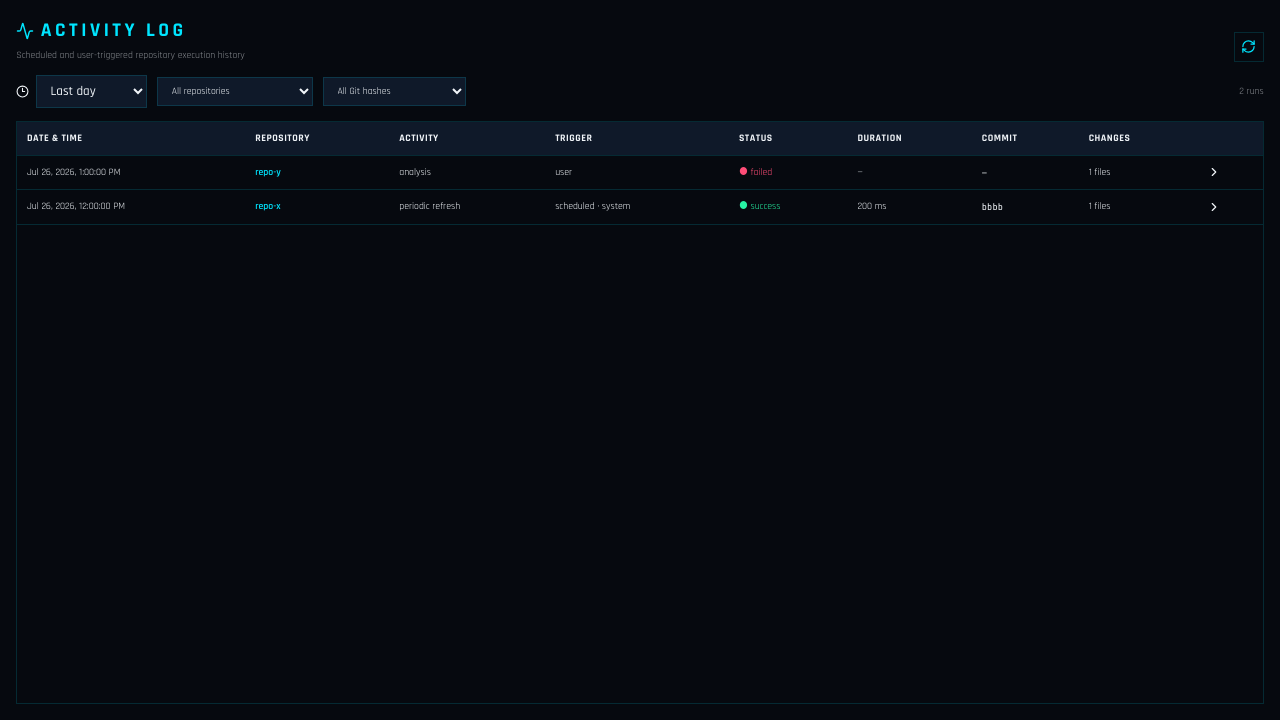
Test case: ActivityLogsView › shows all activities, applies filters, and opens a dismissible detail drawer
Select "Last 6 hours" in the dropdown named "Time range" at coordinates (92, 91), box [36, 75, 147, 108]
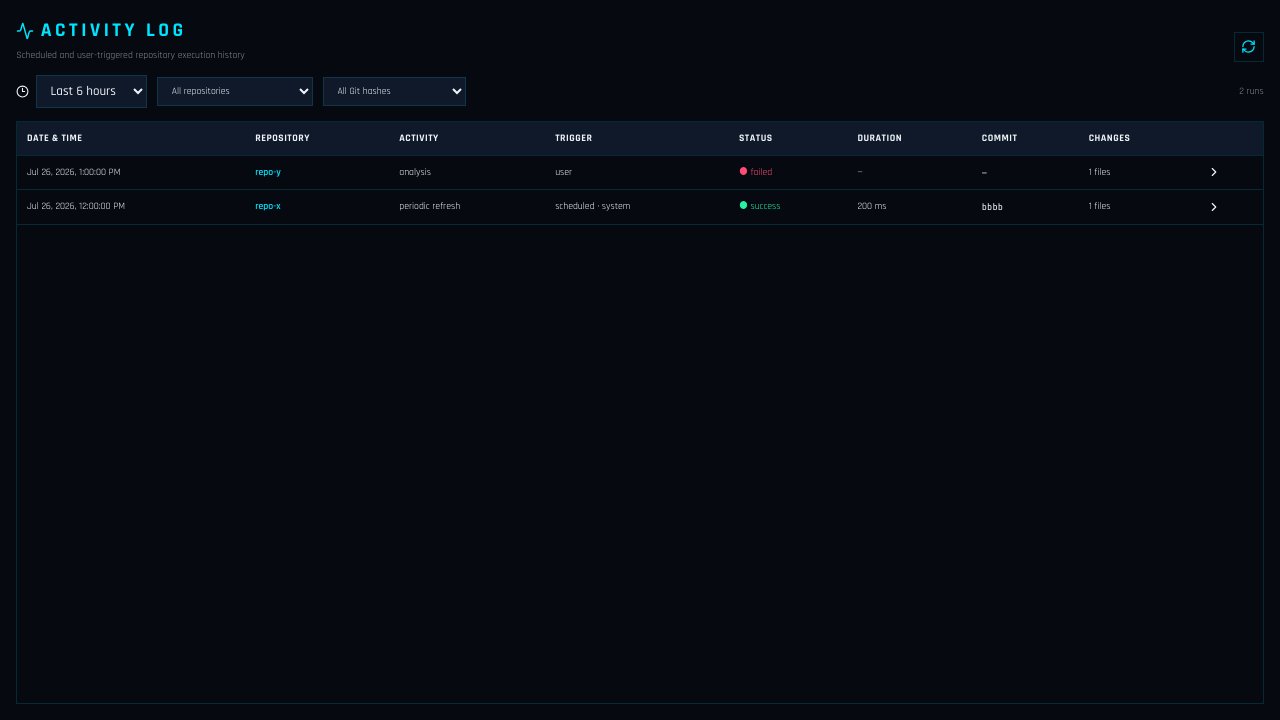
Select "repo-x" in the dropdown named "Repository" at coordinates (235, 91), box [157, 77, 313, 106]
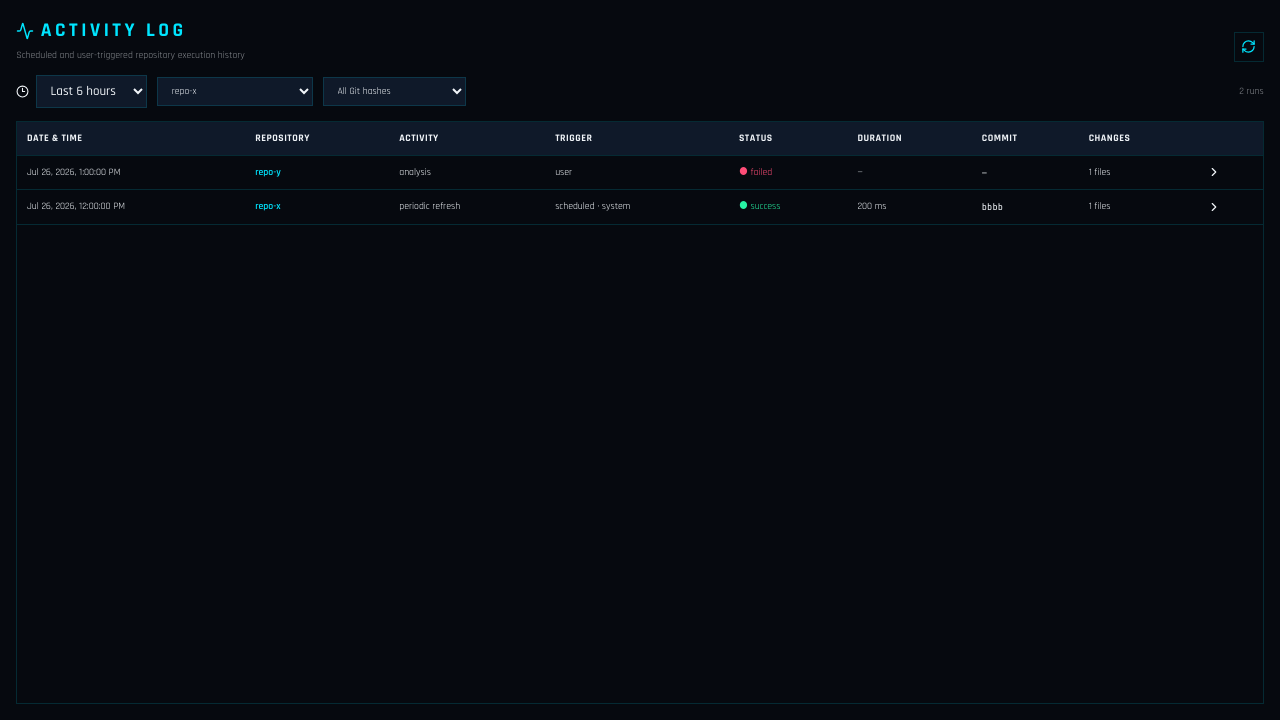
Select "Git hash changed" in the dropdown named "Git hash change" at coordinates (394, 91), box [323, 77, 466, 106]
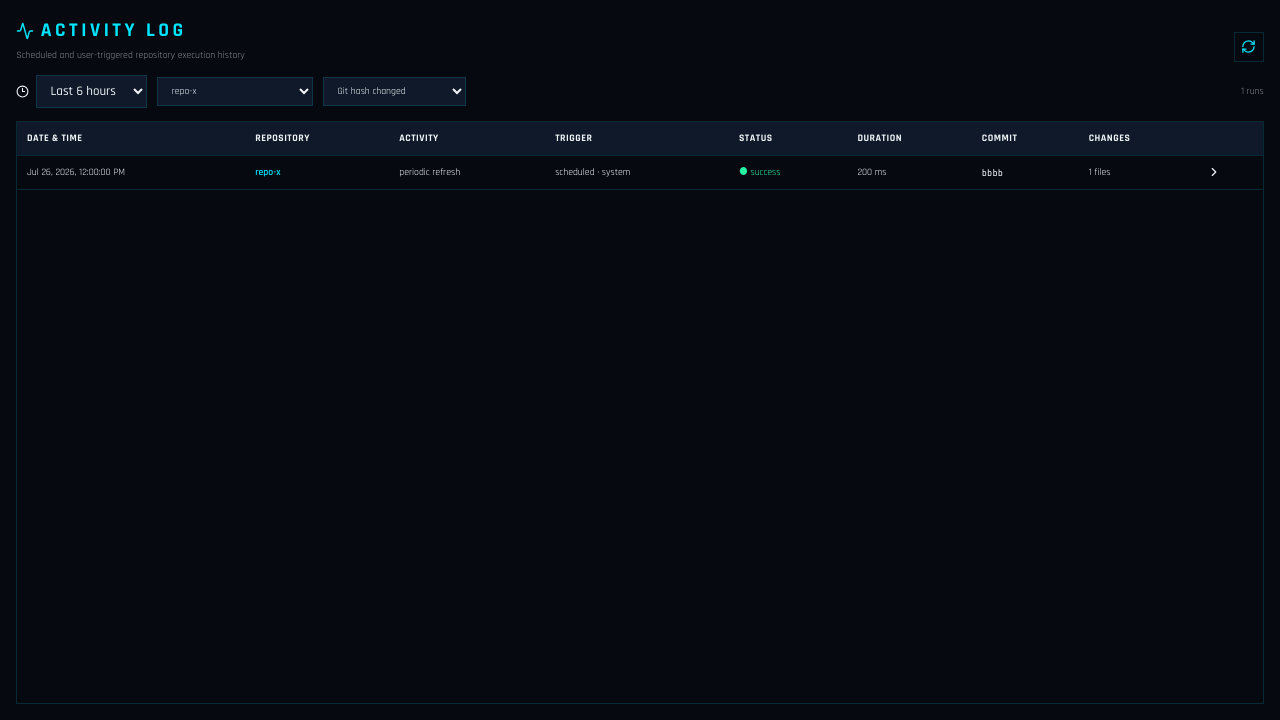
Expected: the text "200 ms" is shown, [848, 155, 972, 190]
Click the text "repo-x" at coordinates (268, 172), box [245, 155, 389, 190]
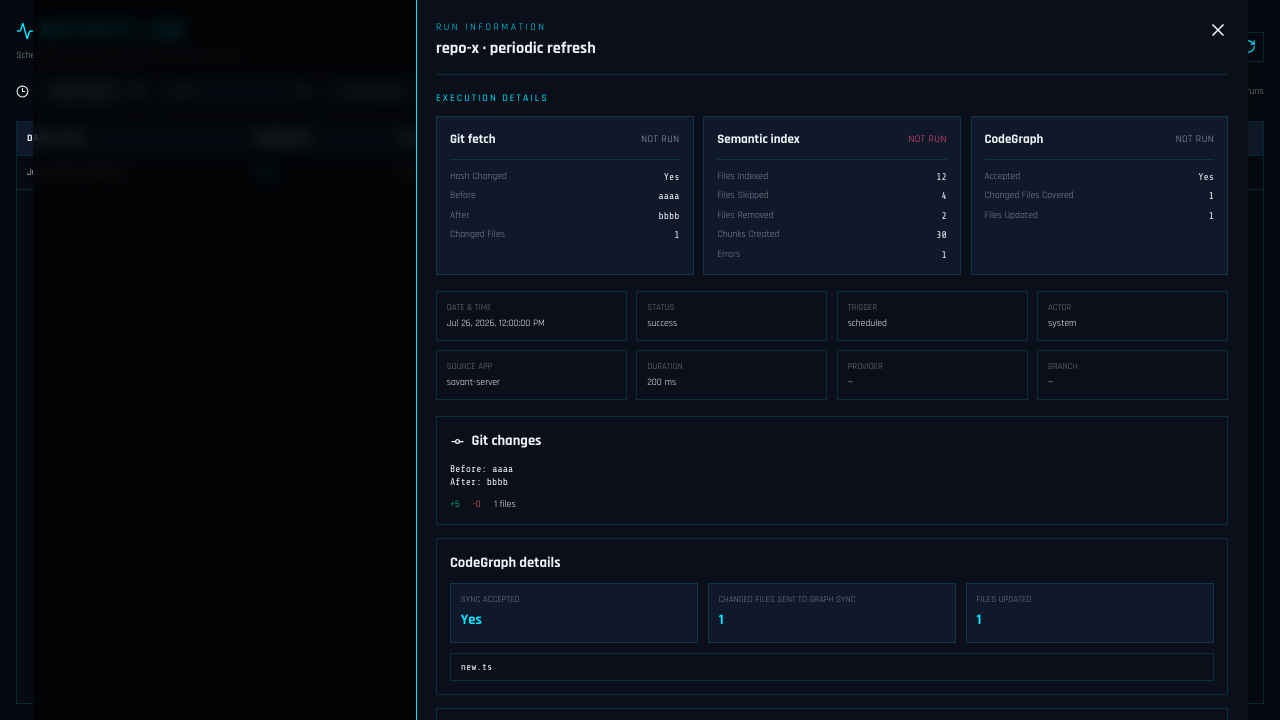
Expected: the dialog named "Activity information" is shown
Expected: the text "new.ts" is shown, [461, 661, 492, 672]
Expected: the text "12" is shown, [936, 170, 947, 182]
Press Escape
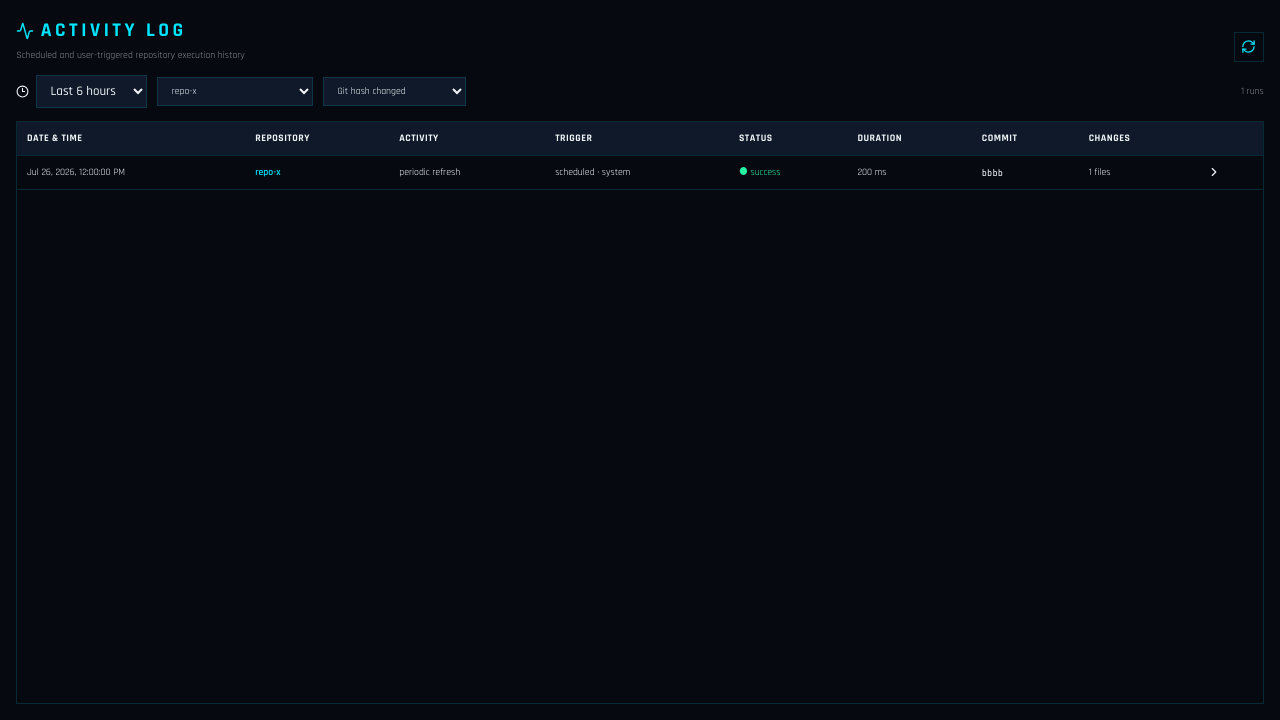
Expected: the dialog is gone
